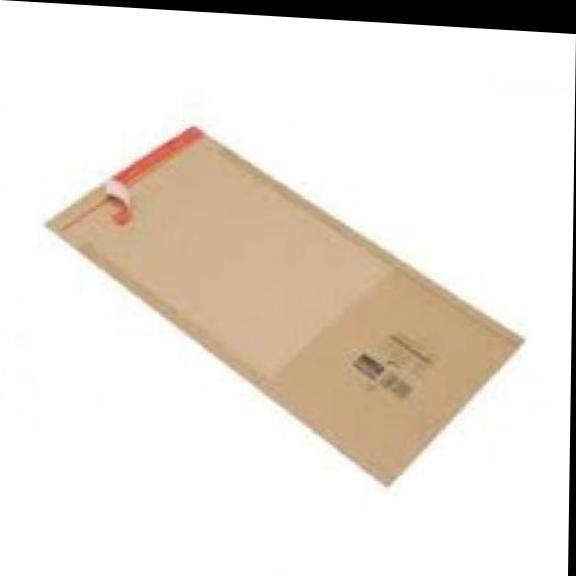Kertas: (36, 112, 523, 492)
